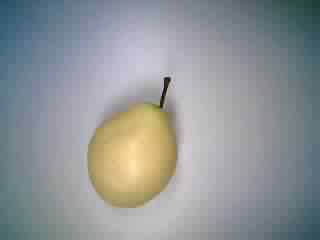pear: (77, 72, 184, 213)
